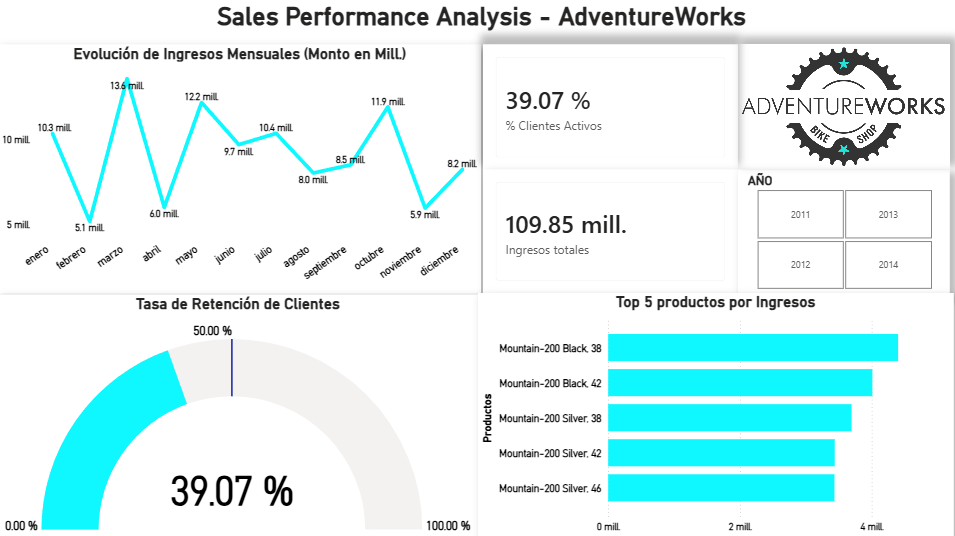

The page's visual inventory and layout, read from the dashboard file:
{"tool":"powerbi","page":{"name":"Página 1","canvas":[1280,720],"ordinal":0},"visuals":[{"type":"textbox","box":[10.1,0,1269.6,60.7],"z":0},{"type":"lineChart","title":"Evolución de Ingresos Mensuales (Monto en Mill.)","fields":{"Y":["Sum(Consulta1.MontoVenta)"],"Category":["Consulta1.OrderDate.Variación.Jerarquía de fechas.Mes"]},"box":[0,61.4,644.3,332.9],"z":1000},{"type":"cardVisual","fields":{"Data":["Consulta1.% Clientes Activos"]},"box":[646,62,340,168],"z":2000},{"type":"gauge","title":"Tasa de Retención de Clientes","fields":{"Y":["Consulta1.% Clientes Activos"]},"box":[0,394.5,640,326.6],"z":3000},{"type":"cardVisual","fields":{"Data":["Consulta1.Ingresos totales"]},"box":[646,228,340,166],"z":4000},{"type":"slicer","fields":{"Values":["Consulta1.OrderDate.Variación.Jerarquía de fechas.Año"]},"box":[986,228,282,166],"z":5000},{"type":"clusteredBarChart","title":"Top 5 productos por Ingresos","fields":{"Category":["Productos.NombreProducto"],"Y":["Sum(Ordenes.MontoVenta)"]},"box":[640,394,634,326],"z":6000},{"type":"image","box":[986,62,282,166],"z":7000}]}

Visuals, with their boxes in screenshot pixels (x1, y1, x2, y2), scaled from the page's 1280x720 canvas onto the 955x536 screenshot:
textbox: crop(8, 0, 954, 45)
"Evolución de Ingresos Mensuales (Monto en Mill.)" lineChart: crop(0, 46, 481, 294)
cardVisual - Consulta1.% Clientes Activos: crop(482, 46, 736, 171)
"Tasa de Retención de Clientes" gauge: crop(0, 294, 478, 535)
cardVisual - Consulta1.Ingresos totales: crop(482, 170, 736, 293)
slicer - Consulta1.OrderDate.Variación.Jerarquía de fechas.Año: crop(736, 170, 946, 293)
"Top 5 productos por Ingresos" clusteredBarChart: crop(478, 293, 951, 535)
image: crop(736, 46, 946, 170)
